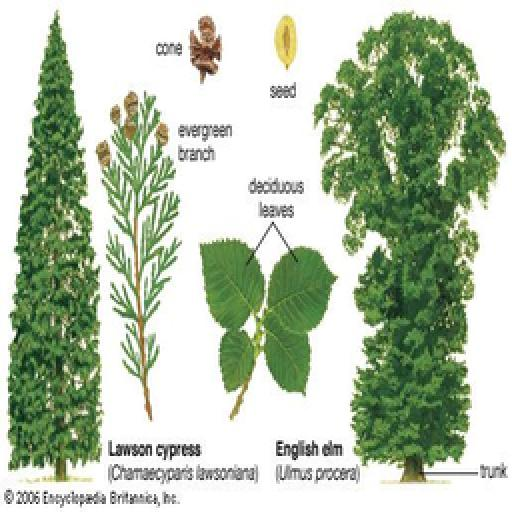trees: (310, 10, 506, 480), (8, 10, 106, 474)
